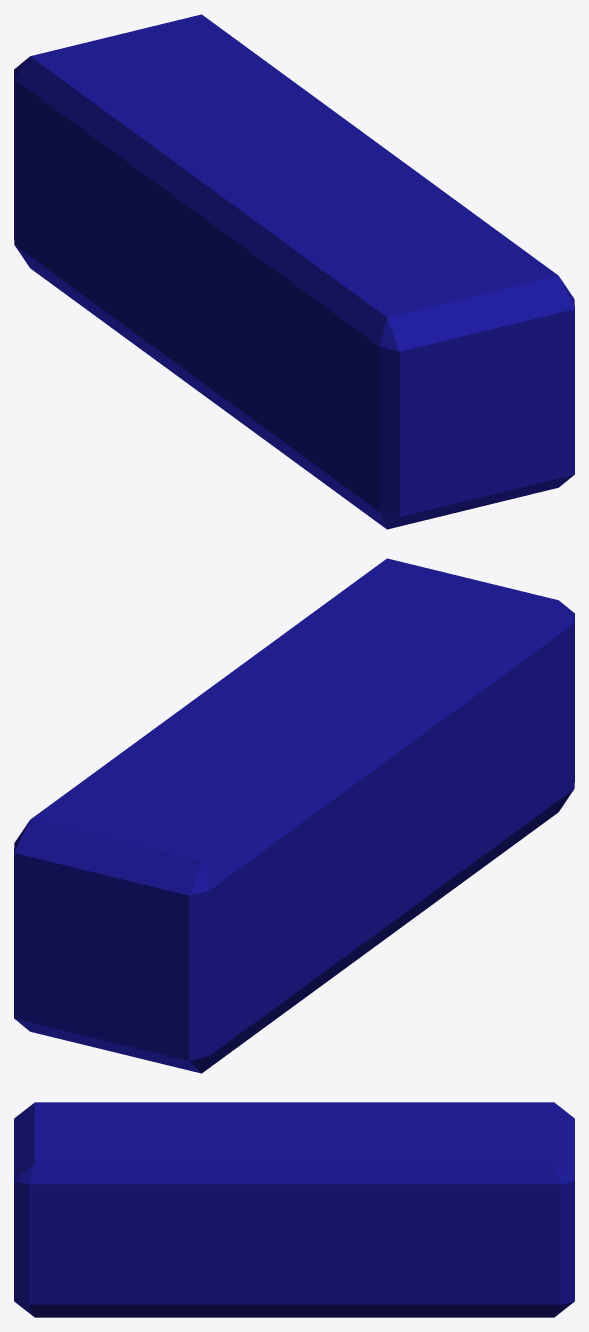
Rendered from BloqueAzul.fbx.
The picture shows the model from 3 angles, top to bottom: view 1: azimuth 30°, elevation 25°; view 2: azimuth 150°, elevation 25°; view 3: azimuth 270°, elevation 25°; orthographic projection. The views are drawn at different scales.
Visible parts, largest first — view 1: Cube; view 2: Cube; view 3: Cube.
Boxes of the visible parts, box(x1,y1,x2,y2) form: Cube: box(14, 14, 574, 529); Cube: box(14, 558, 574, 1073); Cube: box(14, 1102, 574, 1317).
Size of the model in its own units: 111 by 115 by 380.
